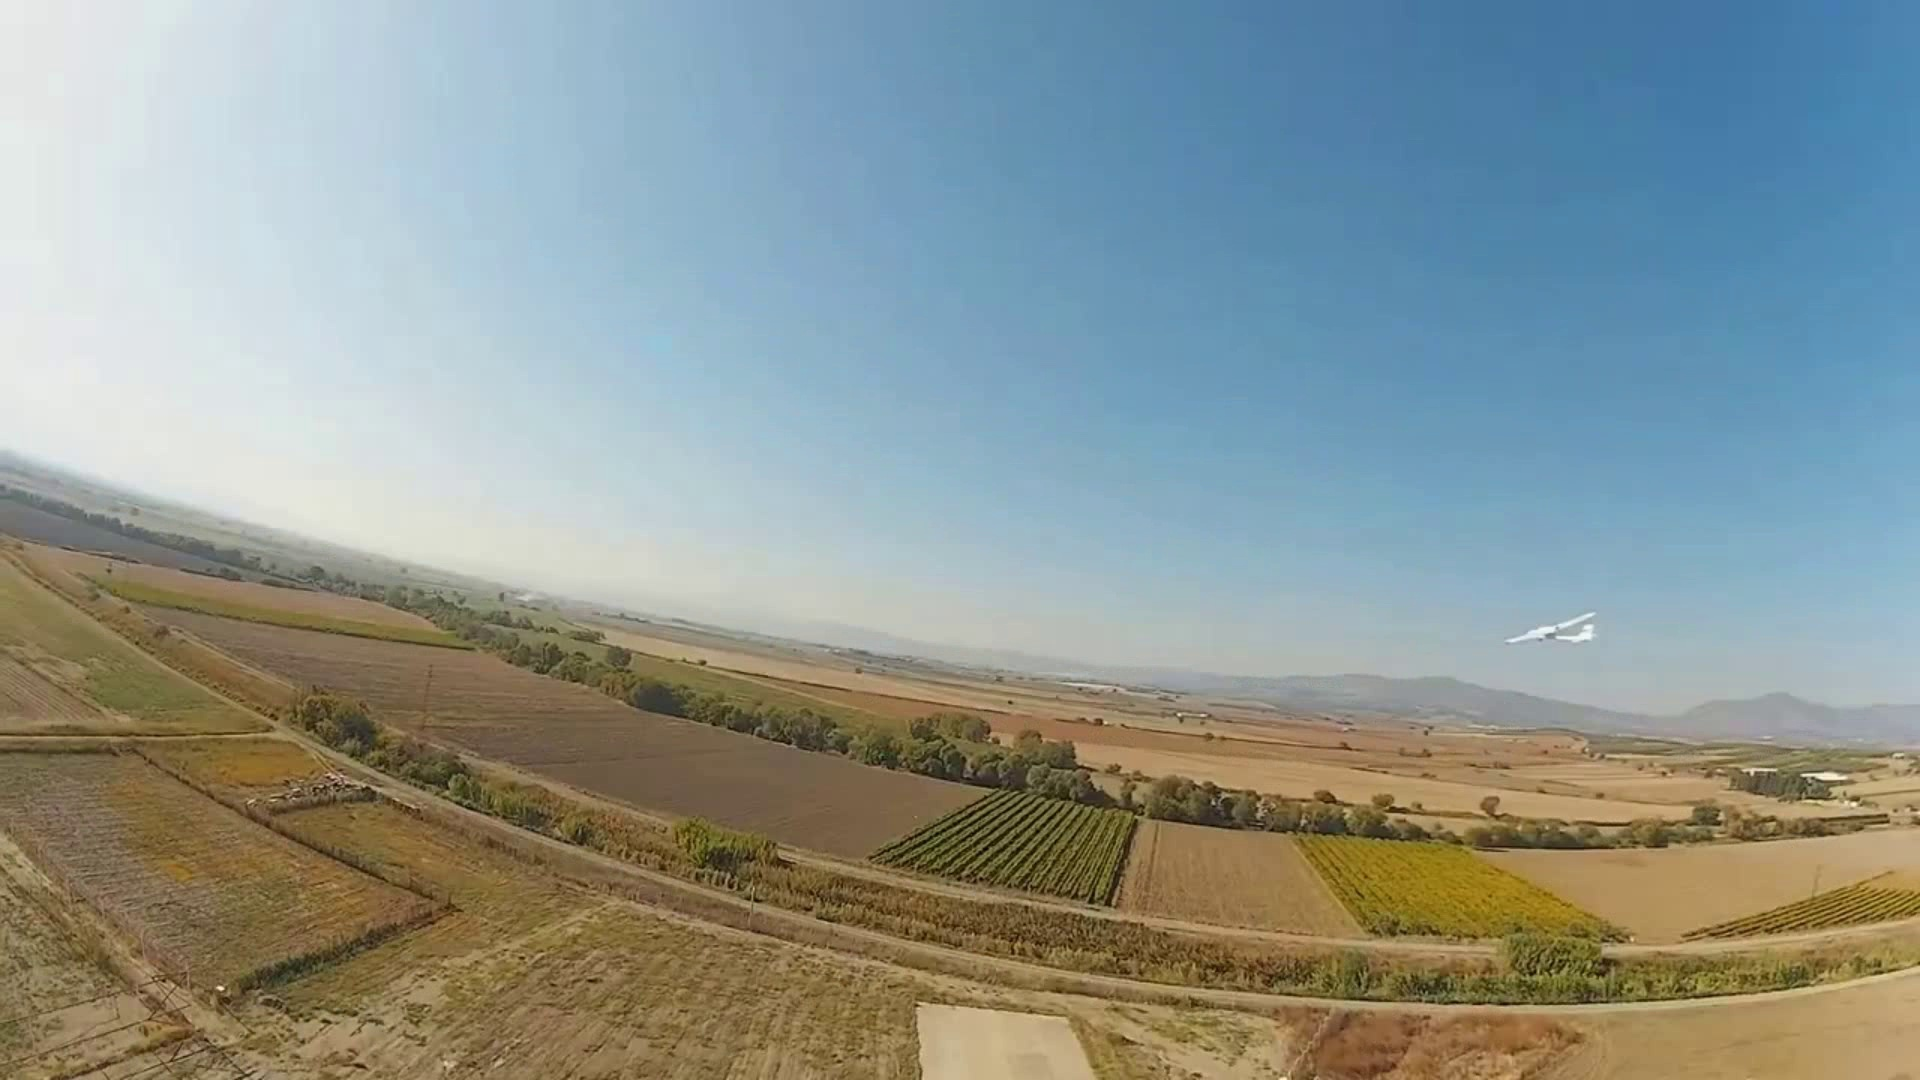airplane: (1503, 611, 1597, 644)
